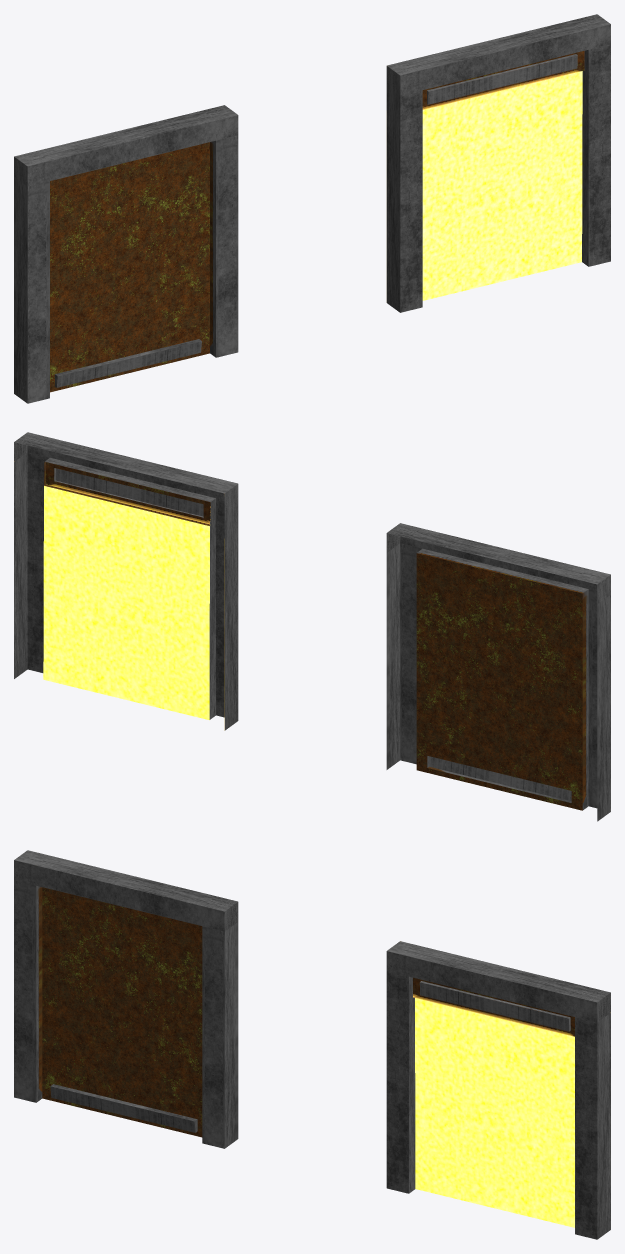
File: Doors.fbx
3 renders of one model, top to bottom at view 1: azimuth 30°, elevation 25°; view 2: azimuth 150°, elevation 25°; view 3: azimuth 330°, elevation 25°, orthographic.
Parts seen in each view (by area): view 1: DoorClosed, DoorOpened; view 2: DoorOpened, DoorClosed; view 3: DoorClosed, DoorOpened.
Part boxes in pixels (bbox=[...]): DoorClosed: bbox=[14, 105, 238, 403]; DoorOpened: bbox=[386, 14, 610, 312]; DoorOpened: bbox=[14, 432, 238, 730]; DoorClosed: bbox=[386, 523, 610, 821]; DoorClosed: bbox=[14, 850, 238, 1148]; DoorOpened: bbox=[386, 941, 610, 1239].
Size of the model in its own units: 7.87 by 3.06 by 0.3194.
